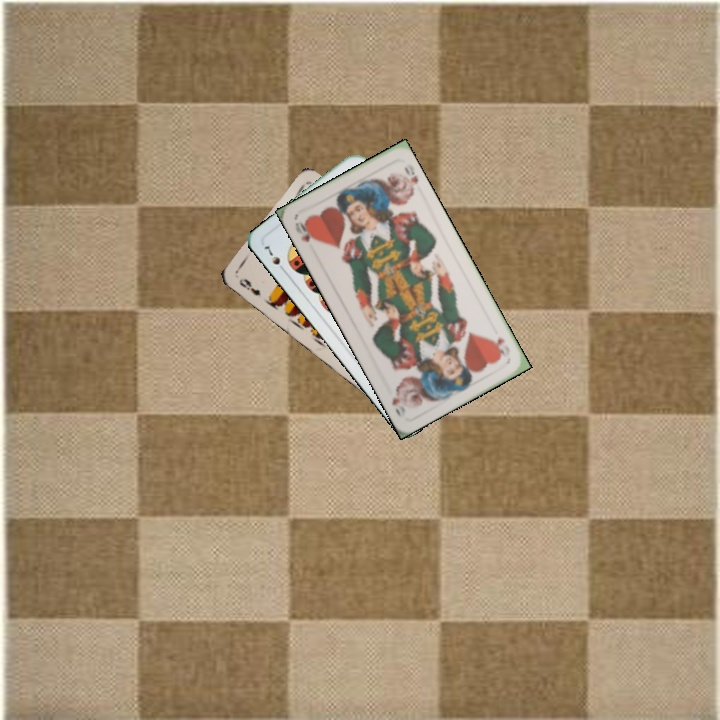E9: (235, 275, 263, 298)
HO: (291, 216, 318, 245), (488, 332, 510, 360)
S7: (260, 242, 289, 276)
